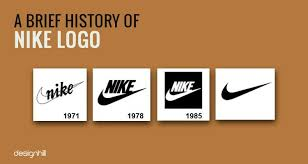nike: (219, 76, 277, 107), (34, 78, 85, 111), (93, 80, 148, 110), (161, 81, 205, 110)
